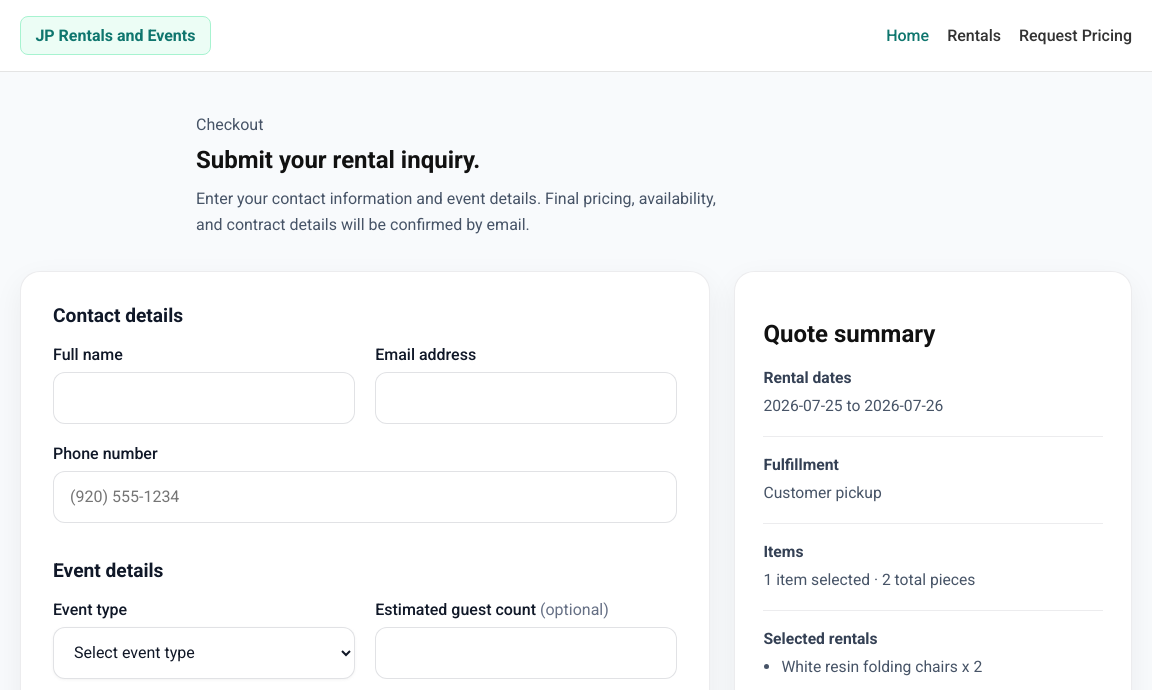
CheckoutPage › shows an error message when the request fails
The image size is (1152, 690).
Step 1. Type "Jordan Smith" into the field labelled "Full name" → (204, 398), box [53, 372, 355, 424]
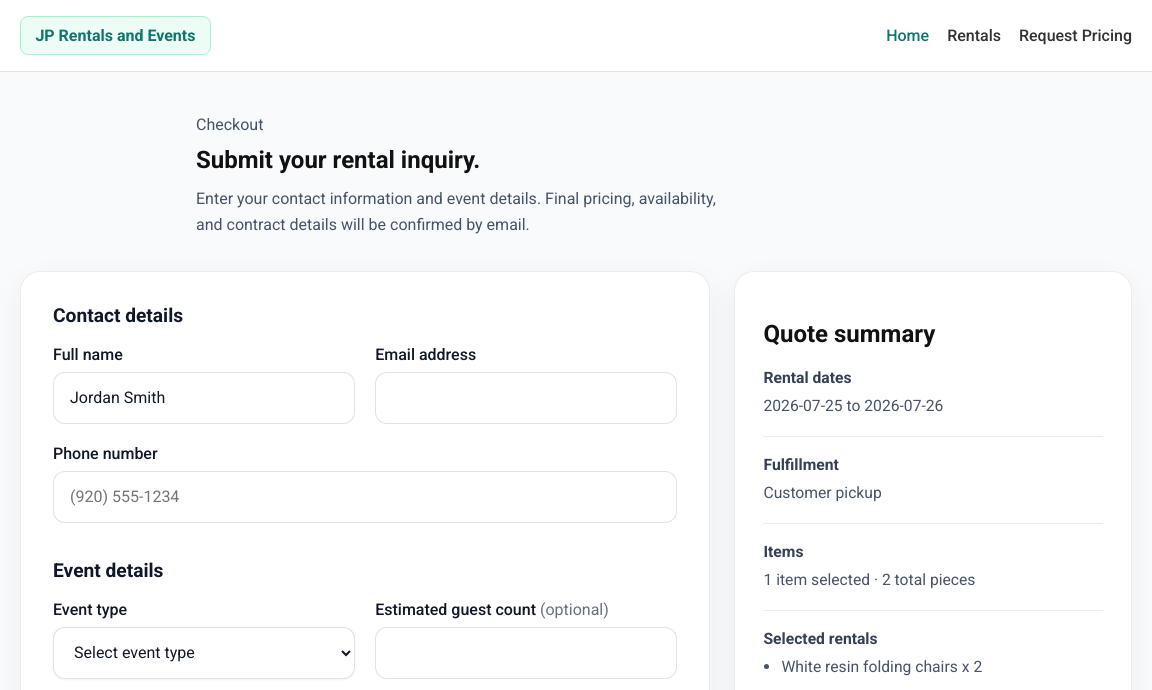
Step 2. Type "jordan@example.com" into the field labelled "Email address" → (526, 398), box [375, 372, 677, 424]
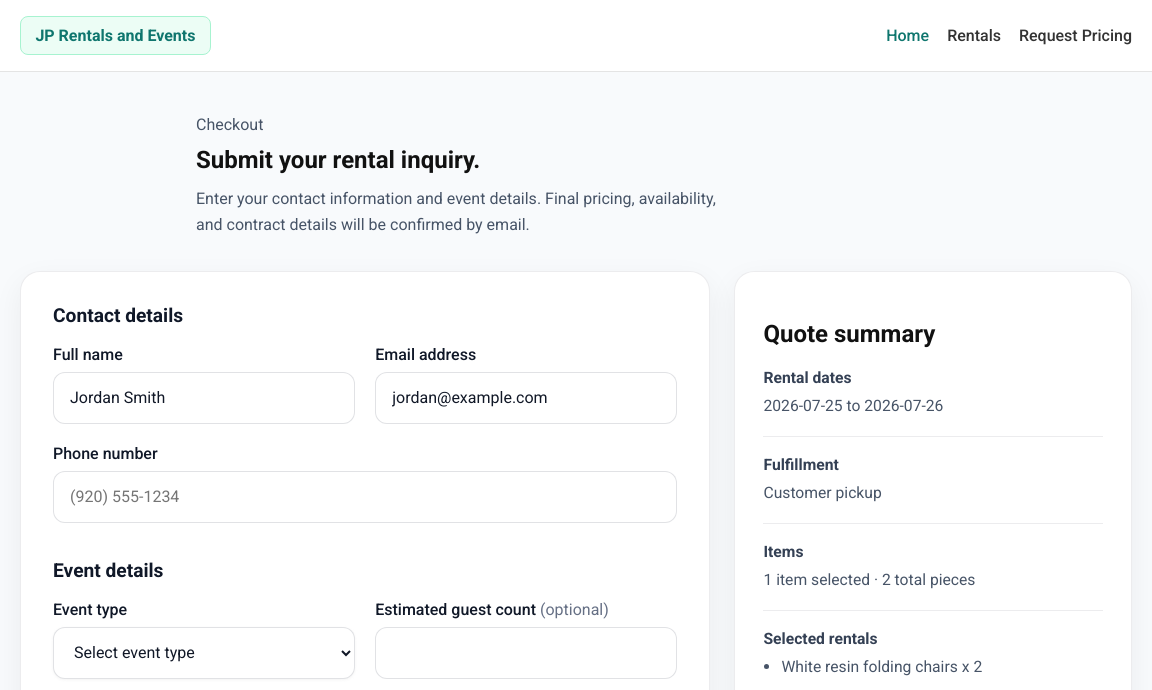
Step 3. Type "9205551234" into the field labelled "Phone number" → (365, 497), box [53, 471, 678, 523]
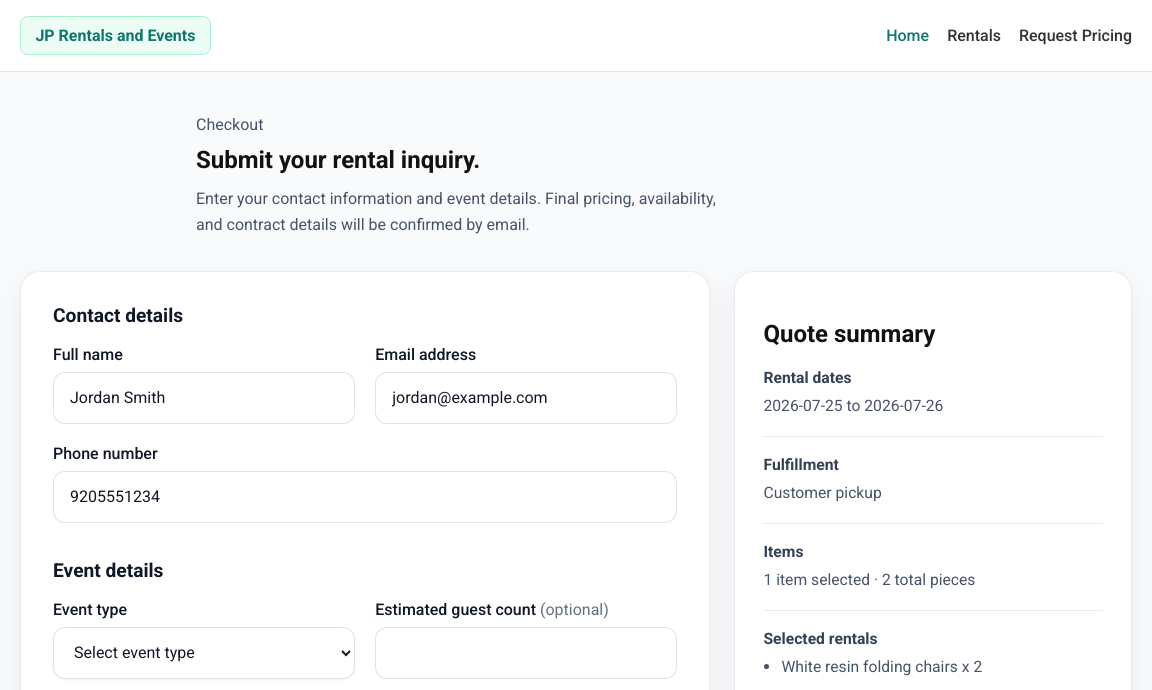
Step 4. Select "Birthday party" in the dropdown labelled "Event type" → (204, 653), box [53, 627, 355, 679]
(page scrolled)
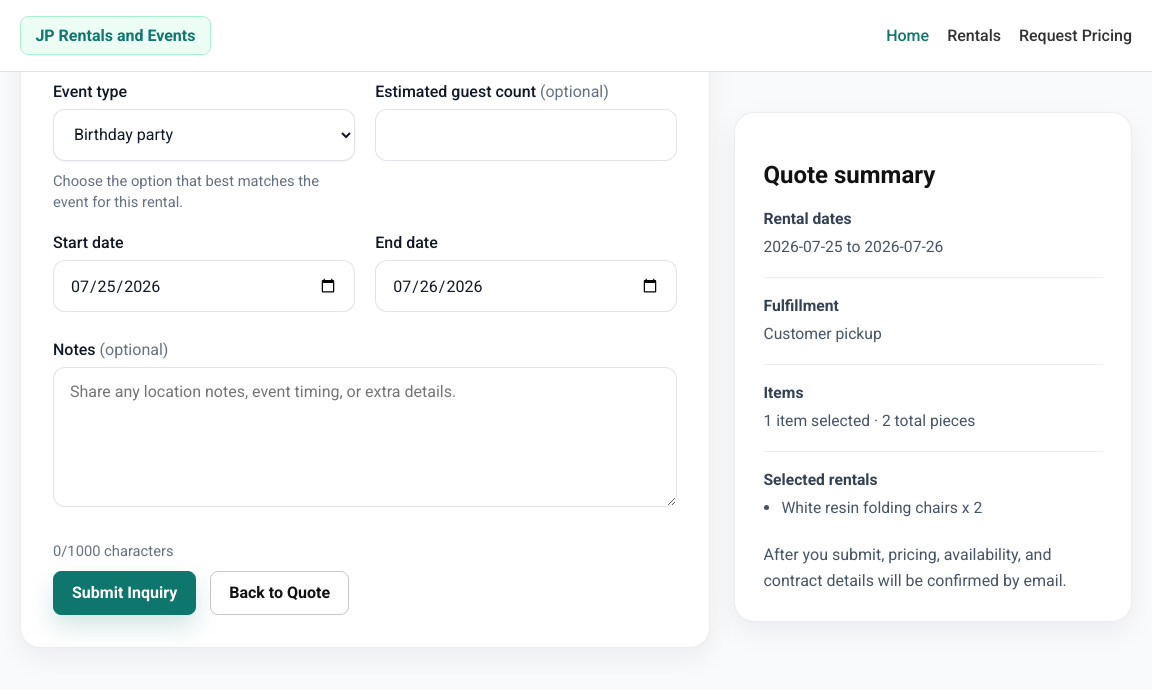
Step 5. Click the button "Submit Inquiry" → (125, 593), box [53, 571, 196, 615]
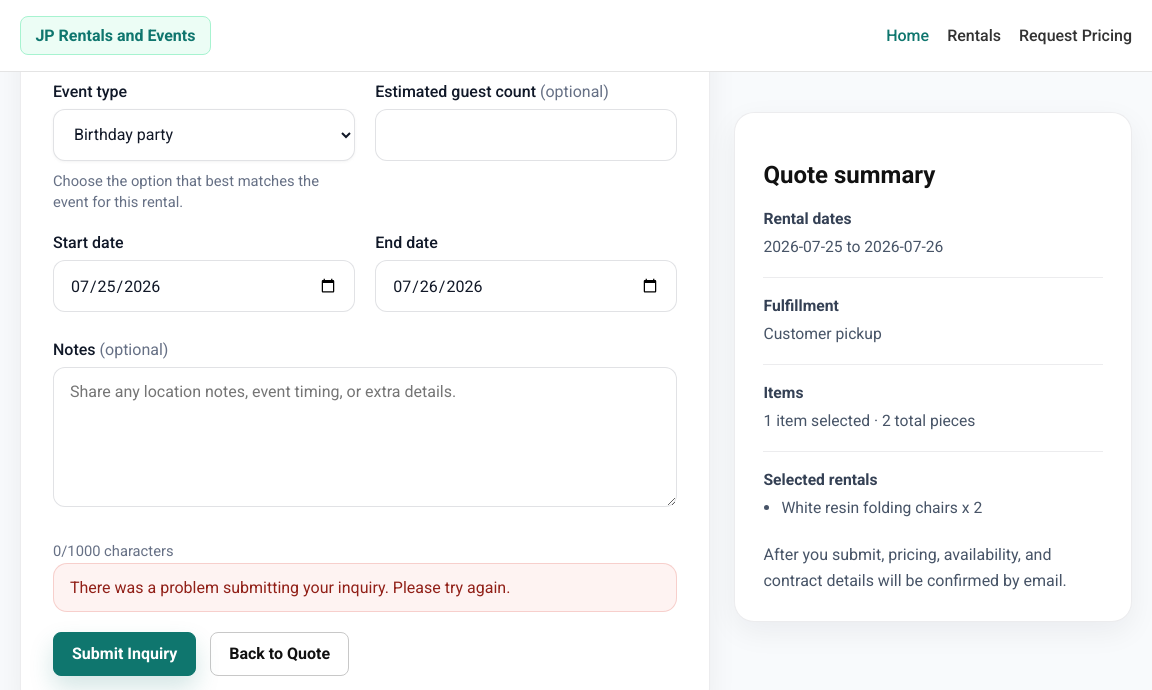
Result: the message shows "problem submitting your inquiry" at [70, 578, 510, 597]
